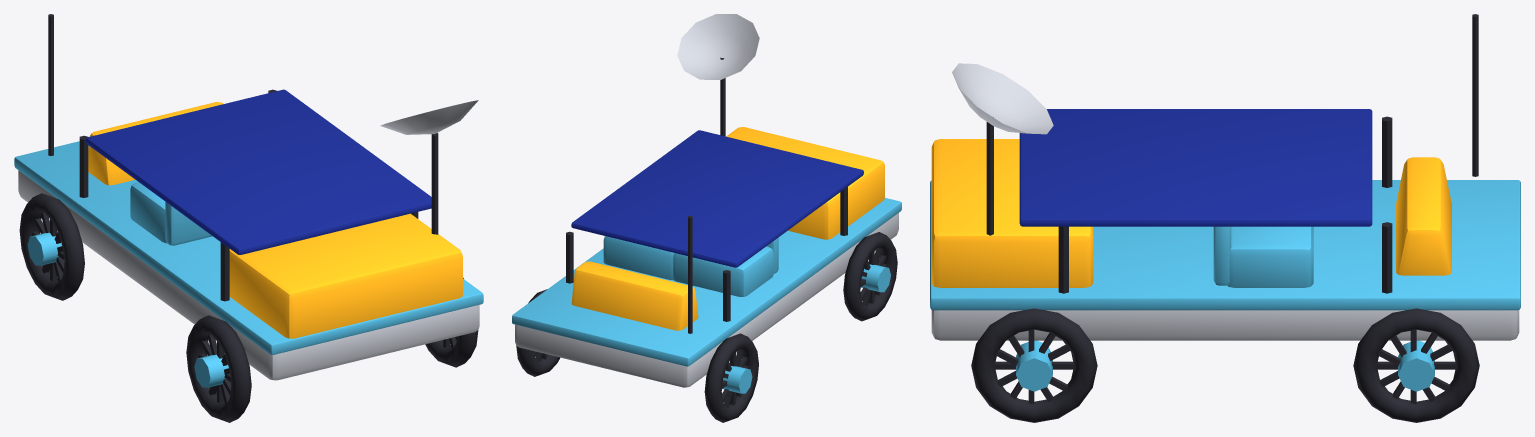
The model's file is moon_rover.glb.
The picture shows the model from 3 angles, left to right: view 1: azimuth 30°, elevation 25°; view 2: azimuth 150°, elevation 25°; view 3: azimuth 270°, elevation 25°; orthographic projection. The views are drawn at different scales.
Visible parts, largest first — view 1: Body, WheelFLMesh, WheelRLMesh, WheelRRMesh; view 2: Body, WheelRLMesh, WheelFLMesh, WheelFRMesh; view 3: Body, WheelFRMesh, WheelRRMesh.
Boxes of the visible parts, left/top/right/bottom form: Body: left=14, top=14, right=483, bottom=380; WheelFLMesh: left=19, top=193, right=84, bottom=300; WheelRLMesh: left=186, top=315, right=251, bottom=422; WheelRRMesh: left=425, top=277, right=478, bottom=367; Body: left=512, top=14, right=901, bottom=387; WheelRLMesh: left=843, top=232, right=897, bottom=321; WheelFLMesh: left=704, top=333, right=758, bottom=422; WheelFRMesh: left=516, top=289, right=559, bottom=376; Body: left=930, top=14, right=1520, bottom=340; WheelFRMesh: left=1353, top=308, right=1479, bottom=422; WheelRRMesh: left=971, top=308, right=1097, bottom=422.
Bounding box in the file's own units: 2.34 × 2.51 × 4.02.
